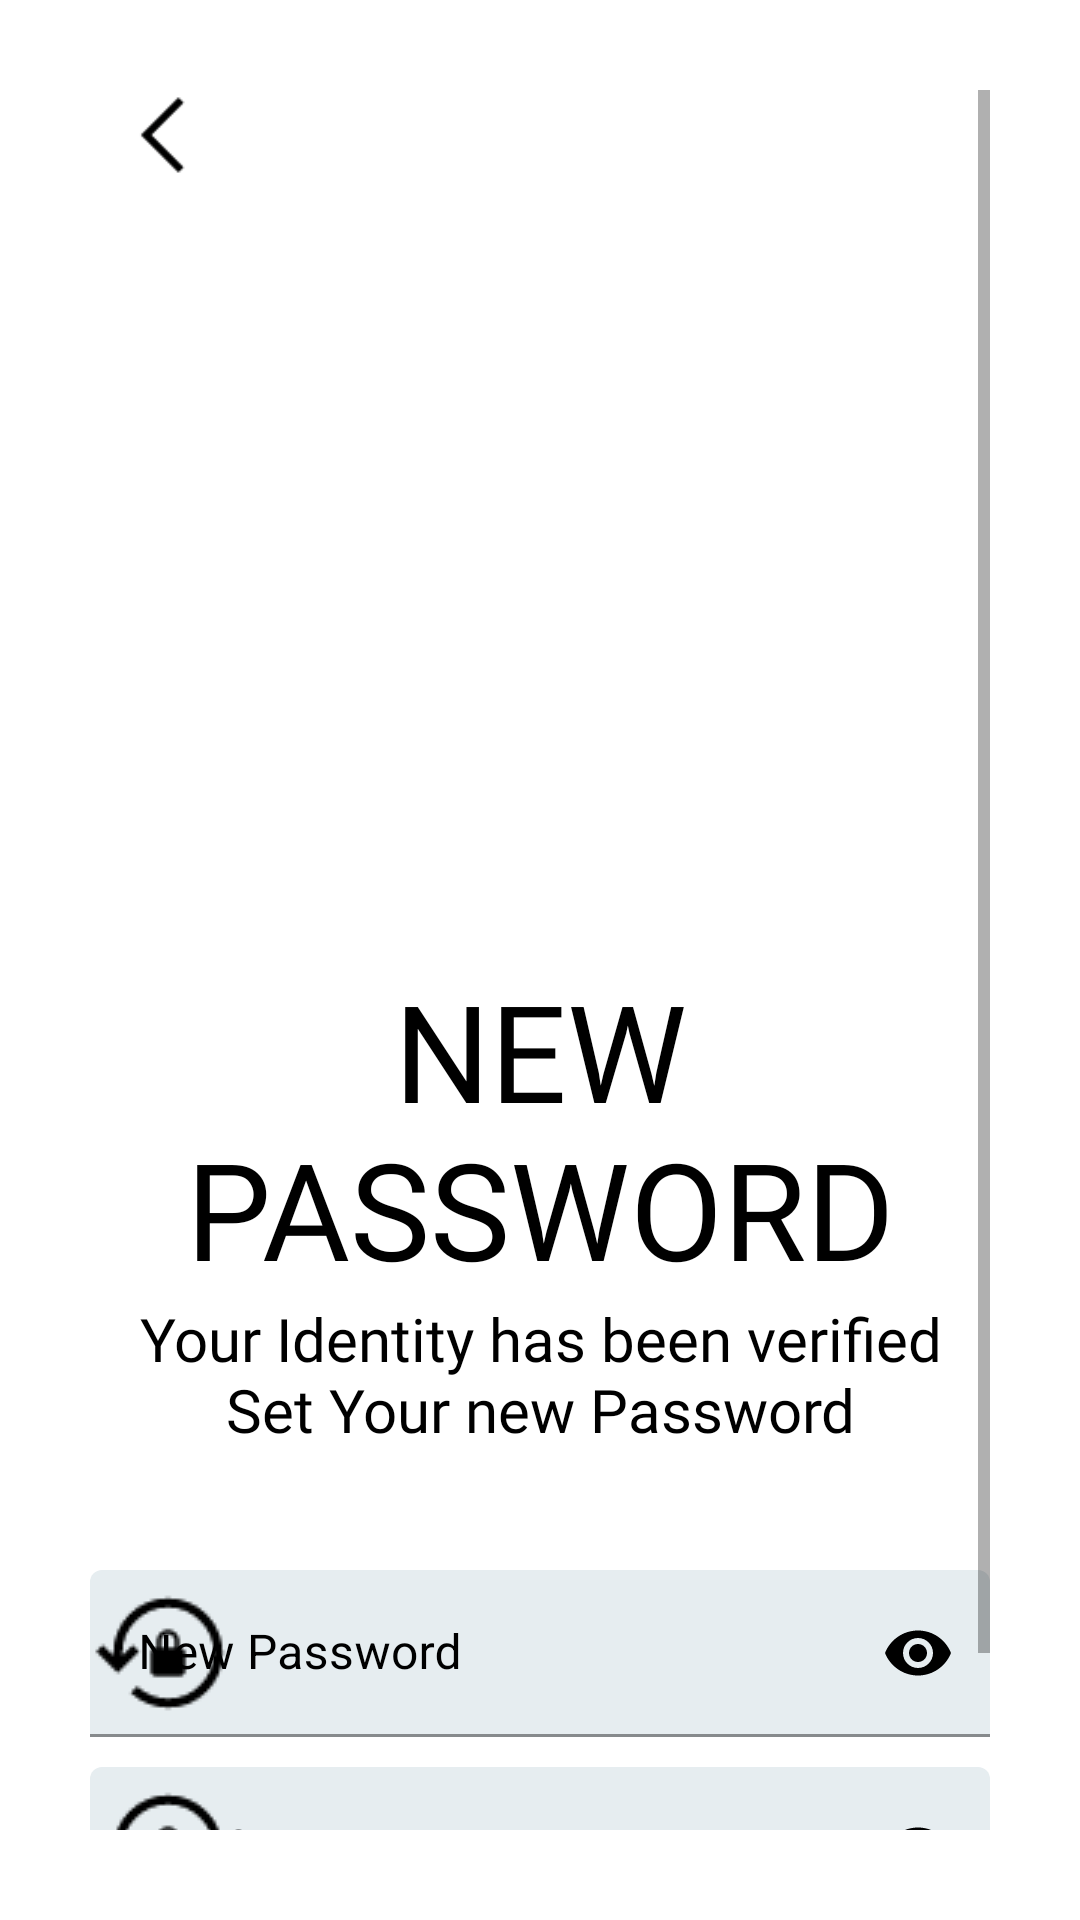

Screen size 1080×1920. Icon name, then its box in pixels as bbox=(x1, y1, x2, y2):
back: bbox=(141, 97, 185, 173)
